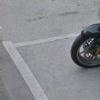Motorcycle: (60, 22, 100, 71)
